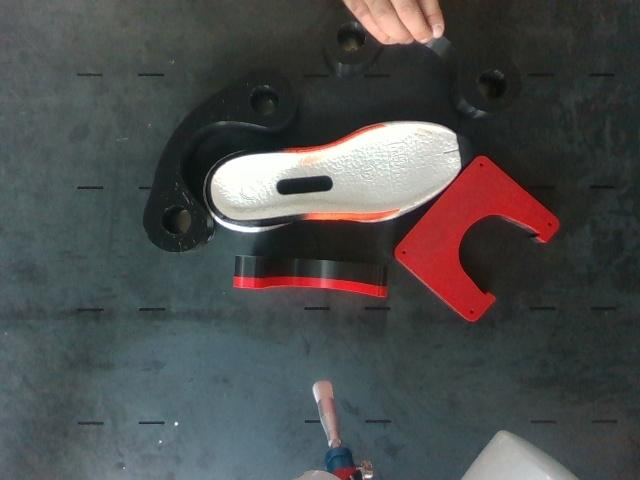shoes: (209, 123, 471, 222)
